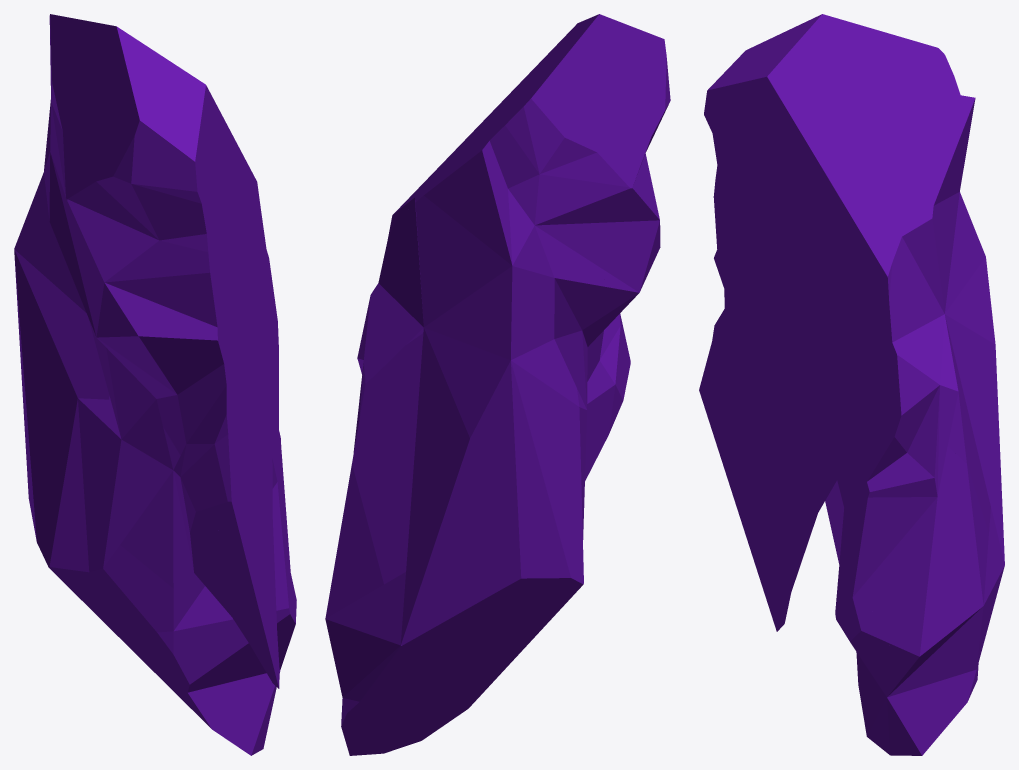
Rendered from TheMan_5_chunks.fbx.
3 renders of one model, left to right at view 1: azimuth 30°, elevation 25°; view 2: azimuth 150°, elevation 25°; view 3: azimuth 270°, elevation 25°, orthographic. The views are drawn at different scales.
Visible parts, largest first — view 1: TheMan_5_15, TheMan_5_6, TheMan_5_4, TheMan_5_12, TheMan_5_13, TheMan_5_0, TheMan_5_5, TheMan_5_3, TheMan_5_7, TheMan_5_1, TheMan_5_10, TheMan_5_2 (+3 smaller); view 2: TheMan_5_13, TheMan_5_15, TheMan_5_7, TheMan_5_11, TheMan_5_5, TheMan_5_4, TheMan_5_12, TheMan_5_10, TheMan_5_9, TheMan_5_14, TheMan_5_0, TheMan_5_6; view 3: TheMan_5_15, TheMan_5_9, TheMan_5_10, TheMan_5_1, TheMan_5_5, TheMan_5_6, TheMan_5_14, TheMan_5_0, TheMan_5_11, TheMan_5_3, TheMan_5_13, TheMan_5_8 (+2 smaller).
Part boxes in pixels (bbox=[...]): TheMan_5_15: bbox=[49, 14, 234, 196]; TheMan_5_6: bbox=[91, 402, 274, 661]; TheMan_5_4: bbox=[28, 485, 195, 694]; TheMan_5_12: bbox=[66, 162, 186, 399]; TheMan_5_13: bbox=[14, 104, 110, 401]; TheMan_5_0: bbox=[136, 354, 262, 550]; TheMan_5_5: bbox=[177, 515, 296, 755]; TheMan_5_3: bbox=[134, 149, 220, 357]; TheMan_5_7: bbox=[22, 382, 114, 495]; TheMan_5_1: bbox=[219, 180, 263, 463]; TheMan_5_10: bbox=[248, 169, 278, 396]; TheMan_5_2: bbox=[183, 292, 229, 409]; TheMan_5_13: bbox=[440, 208, 606, 475]; TheMan_5_15: bbox=[427, 14, 668, 223]; TheMan_5_7: bbox=[372, 383, 584, 651]; TheMan_5_11: bbox=[352, 324, 471, 599]; TheMan_5_5: bbox=[336, 622, 492, 755]; TheMan_5_4: bbox=[403, 493, 583, 682]; TheMan_5_12: bbox=[582, 84, 670, 360]; TheMan_5_10: bbox=[357, 190, 431, 408]; TheMan_5_9: bbox=[325, 408, 386, 668]; TheMan_5_14: bbox=[407, 133, 586, 387]; TheMan_5_0: bbox=[586, 313, 630, 400]; TheMan_5_6: bbox=[580, 363, 622, 507]; TheMan_5_15: bbox=[712, 14, 975, 202]; TheMan_5_9: bbox=[844, 431, 994, 667]; TheMan_5_10: bbox=[823, 249, 953, 451]; TheMan_5_1: bbox=[734, 172, 849, 456]; TheMan_5_5: bbox=[766, 517, 1001, 755]; TheMan_5_6: bbox=[719, 453, 843, 596]; TheMan_5_14: bbox=[790, 188, 962, 324]; TheMan_5_0: bbox=[699, 318, 806, 456]; TheMan_5_11: bbox=[938, 305, 999, 541]; TheMan_5_3: bbox=[704, 86, 777, 234]; TheMan_5_13: bbox=[943, 145, 996, 368]; TheMan_5_8: bbox=[809, 393, 866, 552].
Bounding box in the file's own units: 378 × 1071 × 447.
